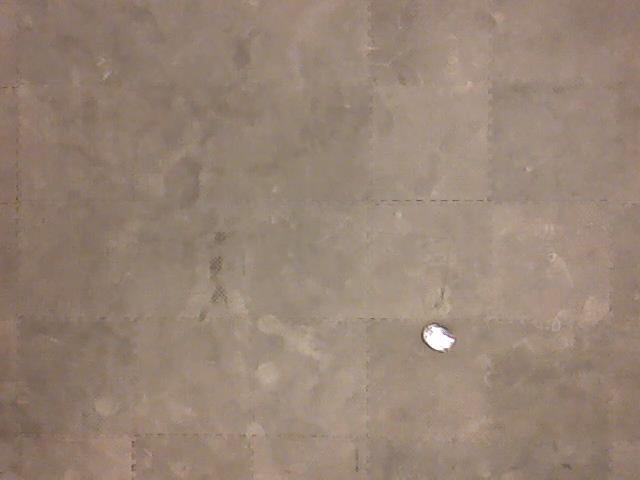Agent: (419, 321, 456, 354)
